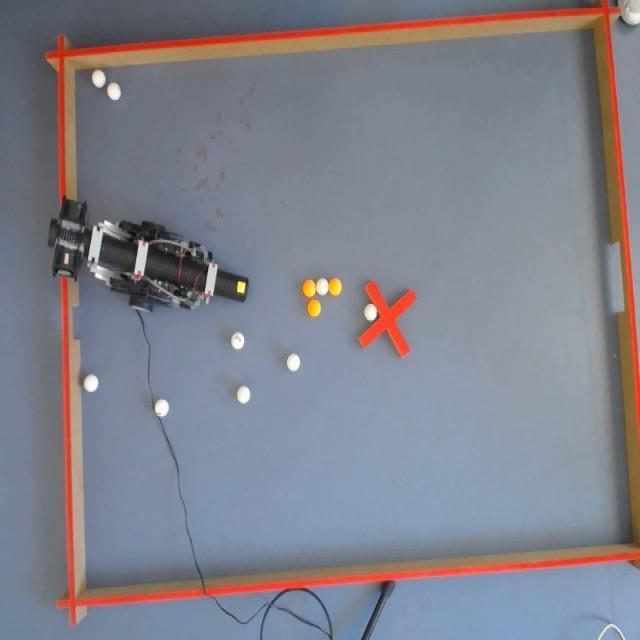orange: (306, 298, 321, 316), (329, 276, 342, 295), (302, 280, 316, 296)
robot: (49, 201, 244, 316)
white: (106, 84, 121, 104), (236, 386, 250, 406), (91, 67, 105, 87), (363, 302, 377, 321), (84, 376, 100, 392), (287, 354, 301, 372), (314, 277, 328, 294), (230, 332, 243, 349), (156, 400, 168, 418)
